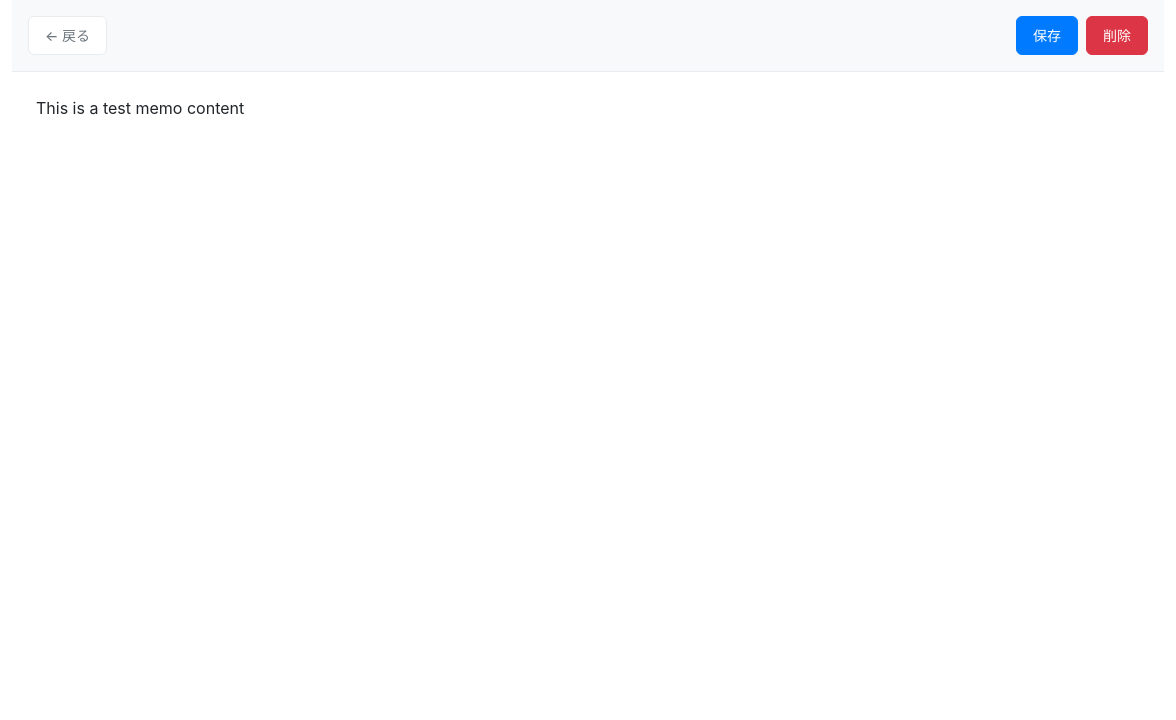
Scenario: MemoEditor › Auto-save functionality › shows save button text as "保存中..." during save
# Change content to trigger auto-save
Replace the text in the text box named "メモ内容" with "Content for button test": (588, 396) [12,72,1164,719]
Wait 500 ms
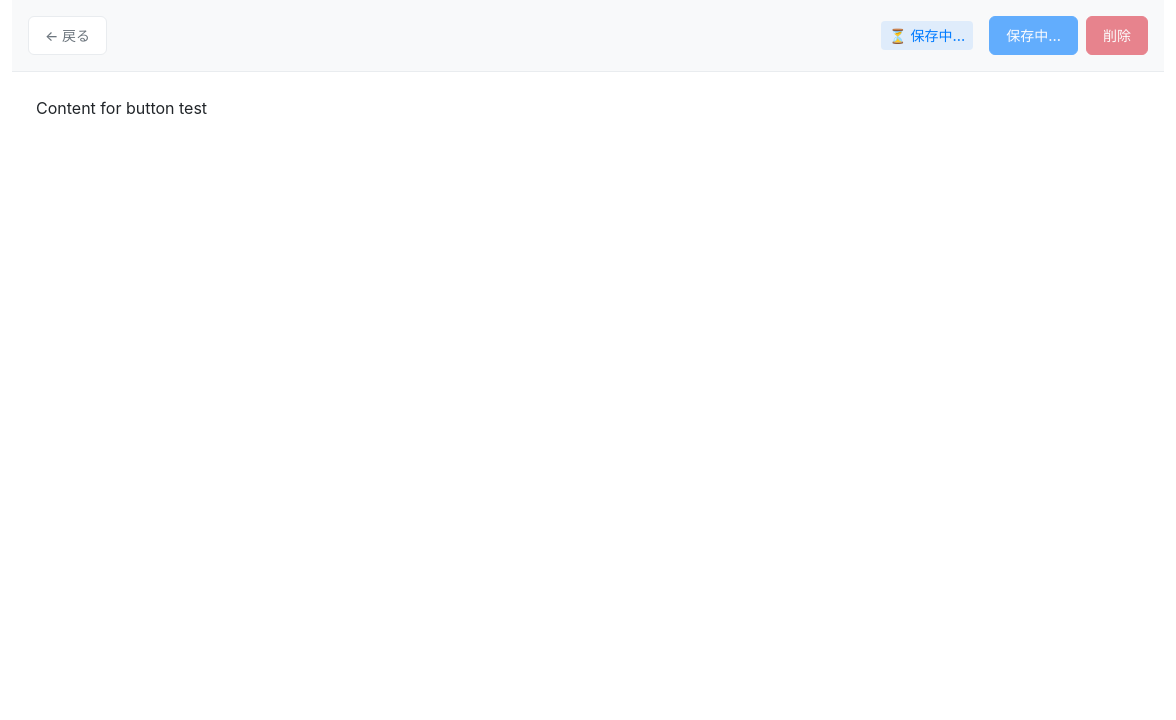
expect the button "保存中..." is shown: met, box [989,16,1078,55]
